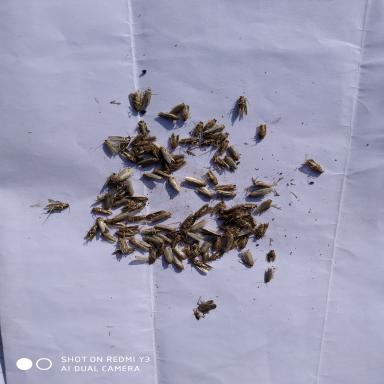pbw: (192, 299, 218, 321), (234, 214, 261, 235), (302, 154, 327, 176), (140, 82, 159, 108), (249, 122, 270, 144), (112, 165, 135, 185), (188, 258, 213, 276), (248, 174, 280, 188), (112, 207, 141, 222), (127, 89, 144, 114), (80, 222, 100, 243), (252, 221, 272, 241), (134, 118, 153, 139), (142, 208, 170, 222), (115, 234, 132, 257), (178, 212, 197, 232), (125, 238, 152, 252), (217, 233, 234, 255), (198, 116, 220, 133), (107, 196, 138, 208), (108, 247, 136, 260), (158, 146, 177, 165), (198, 237, 217, 256), (210, 140, 230, 158), (101, 139, 121, 157), (240, 248, 257, 269), (168, 244, 190, 260), (215, 209, 244, 221), (236, 95, 251, 118), (93, 216, 112, 234), (212, 154, 231, 172), (201, 169, 221, 186), (192, 202, 212, 219), (226, 145, 246, 162), (195, 184, 215, 201), (254, 198, 275, 214), (210, 131, 231, 147), (185, 239, 201, 260), (245, 187, 275, 198), (164, 176, 182, 194), (188, 119, 205, 138), (260, 266, 276, 286), (115, 147, 135, 163), (101, 171, 121, 187), (212, 180, 240, 191), (218, 216, 236, 233), (222, 154, 240, 171), (145, 140, 164, 156), (213, 188, 238, 200), (147, 243, 160, 266), (139, 170, 165, 181), (197, 135, 219, 148), (181, 176, 207, 187), (178, 104, 192, 124), (150, 223, 178, 233), (98, 231, 118, 245), (187, 219, 207, 233), (102, 190, 115, 211), (234, 234, 250, 251), (168, 100, 186, 115), (116, 223, 146, 232), (90, 206, 114, 217), (100, 216, 124, 227), (142, 235, 166, 246), (138, 226, 164, 236), (137, 158, 160, 169), (210, 199, 228, 213), (168, 132, 182, 150), (157, 112, 181, 122), (130, 131, 146, 146), (124, 202, 148, 212), (112, 230, 138, 239), (134, 145, 152, 158), (122, 179, 135, 197), (172, 258, 188, 272), (207, 249, 224, 262), (152, 168, 172, 179), (200, 227, 222, 237), (231, 202, 258, 210), (170, 159, 188, 171), (164, 245, 174, 266), (124, 194, 150, 202), (184, 230, 204, 240), (264, 249, 277, 264), (153, 233, 172, 243), (175, 138, 200, 145), (220, 226, 237, 236), (112, 180, 126, 192), (204, 132, 224, 140), (170, 151, 187, 160), (92, 192, 107, 202), (140, 134, 158, 142), (162, 160, 171, 175), (172, 231, 182, 244), (132, 140, 150, 145)
